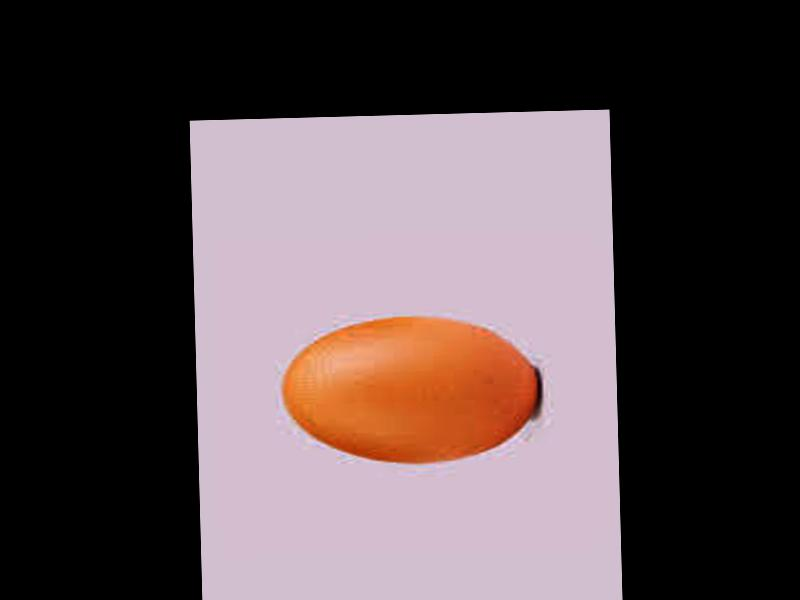Eggs: (276, 315, 542, 465)
